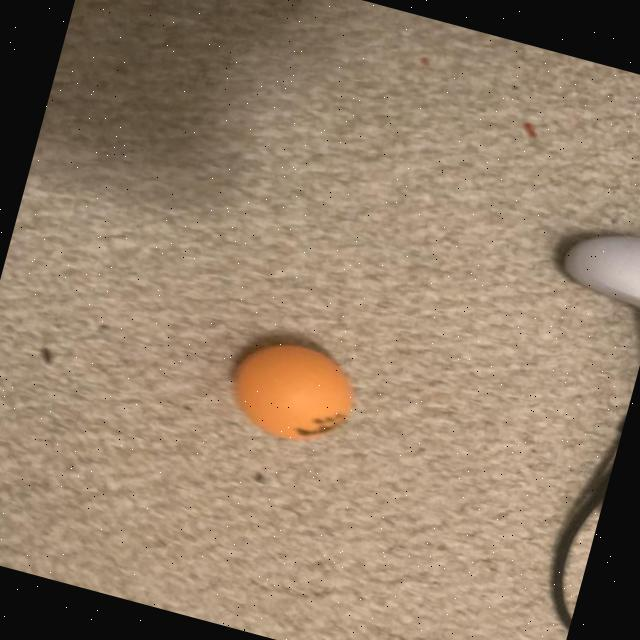ping-pong-ball: (211, 318, 370, 459)
